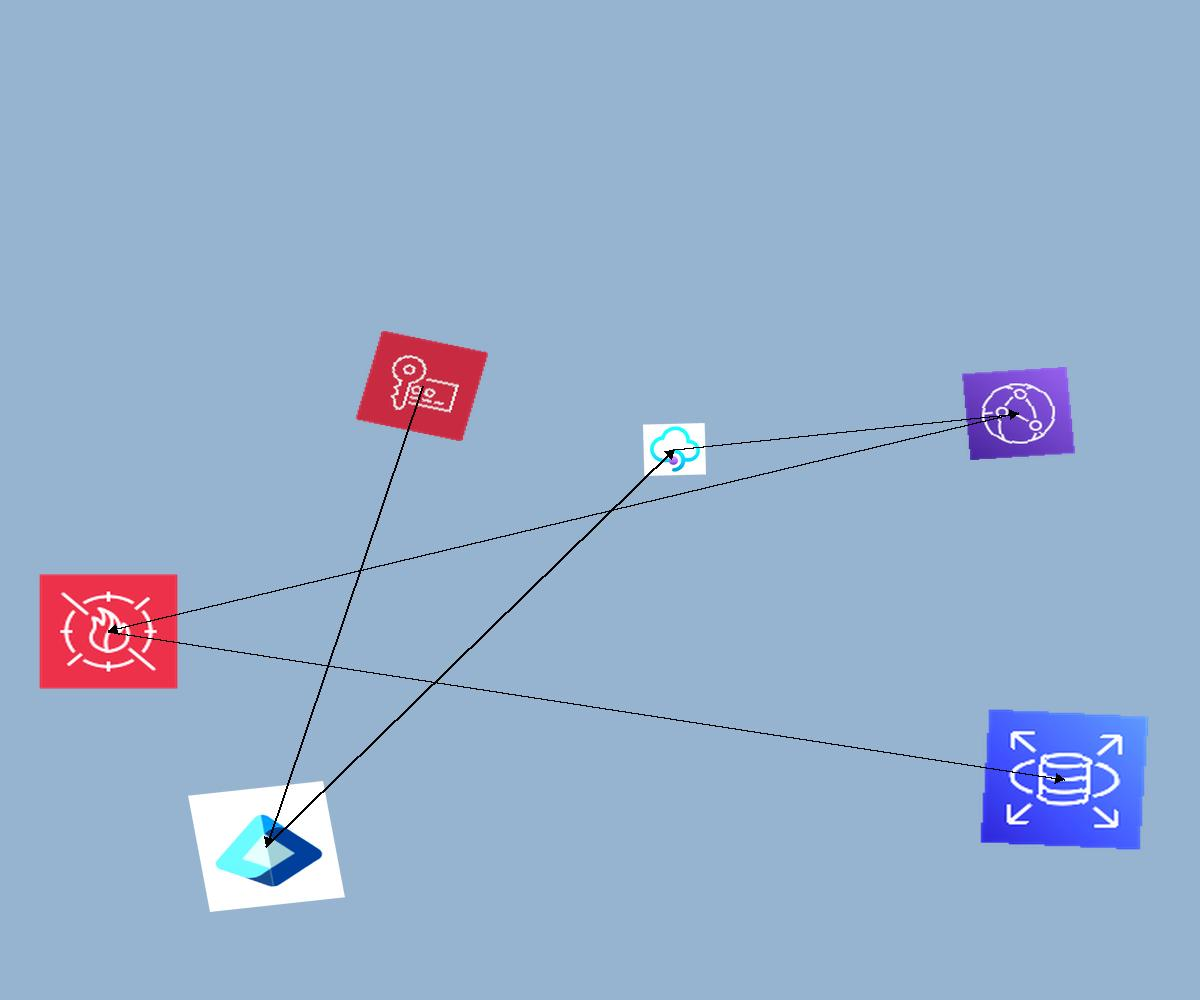AWS-CloudFront: (961, 366, 1076, 461)
AWS-Key-Management-Service: (355, 330, 489, 442)
AWS-RDS: (979, 708, 1150, 851)
AWS-WAF: (38, 573, 179, 690)
Azure_api_gateway: (643, 423, 706, 476)
Azure_microsoft_entra: (188, 781, 345, 912)
